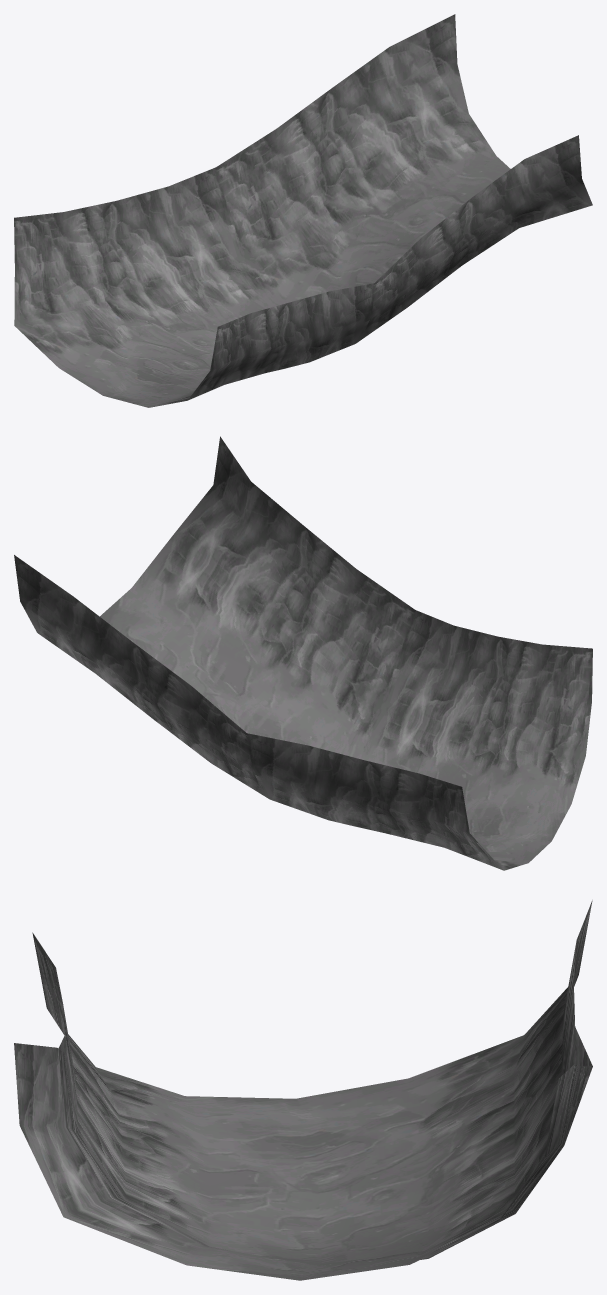
The model's file is SWORDLIGHT20_PS-AREA02_02.fbx.
3 views of the same model, one above another, from view 1: azimuth 30°, elevation 25°; view 2: azimuth 150°, elevation 25°; view 3: azimuth 270°, elevation 25° (orthographic). The views are drawn at different scales.
Parts seen in each view (by area): view 1: SWORDLIGHT20_PS-AREA02_02; view 2: SWORDLIGHT20_PS-AREA02_02; view 3: SWORDLIGHT20_PS-AREA02_02.
Part boxes in pixels (box(x1,y1,x2,y2)): SWORDLIGHT20_PS-AREA02_02: box(14, 14, 592, 407); SWORDLIGHT20_PS-AREA02_02: box(14, 436, 592, 870); SWORDLIGHT20_PS-AREA02_02: box(14, 900, 592, 1280).
Size of the model in its own units: 125597 by 60612 by 81466.
2 materials, 2 textured.
